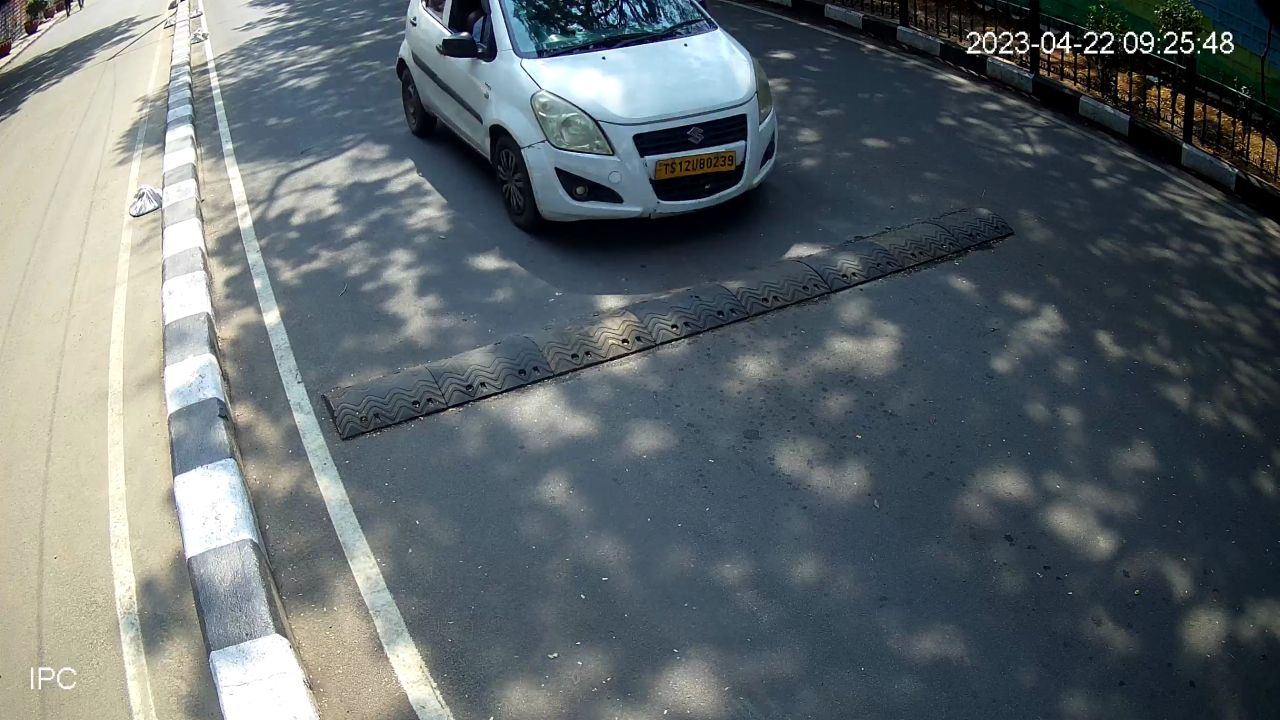license_plate: (648, 147, 739, 188)
